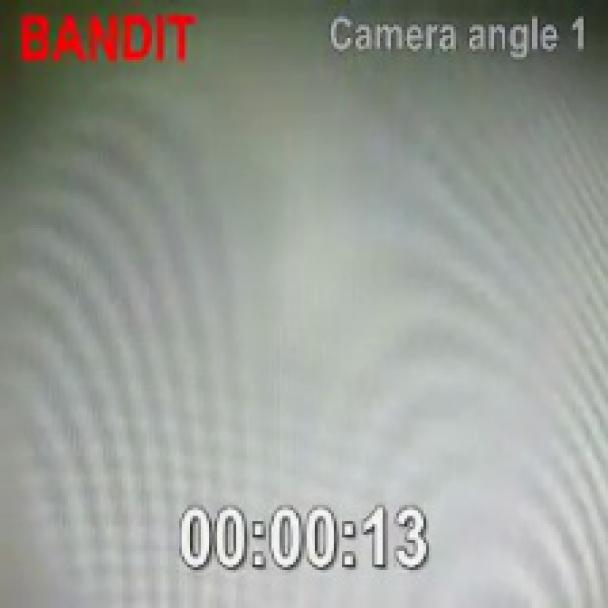smoke: (8, 81, 605, 486)
